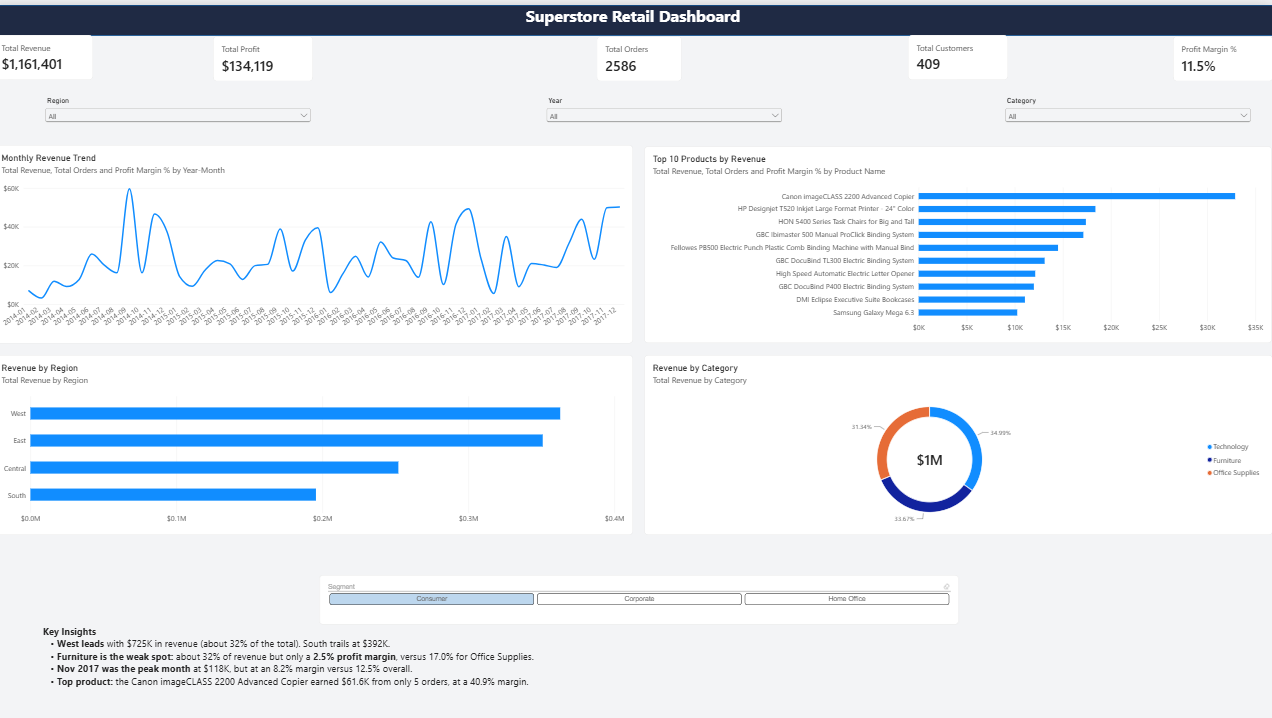

What the dashboard file says about the page in this screenshot:
{"tool":"powerbi","page":{"name":"Overview","canvas":[2560,1440],"ordinal":0},"visuals":[{"type":"shape","box":[0,0,2560,61.5],"z":0},{"type":"textbox","box":[0,0,2560,69.7],"z":1000},{"type":"cardVisual","fields":{"Data":["Measures (2).Total Profit"]},"box":[439.1,62.7,200,90],"z":2000},{"type":"cardVisual","fields":{"Data":["Measures (2).Total Revenue"]},"box":[0,60.3,200,90],"z":3000},{"type":"cardVisual","fields":{"Data":["Measures (2).Total Customers"]},"box":[1829,60.3,200,90],"z":4000},{"type":"cardVisual","fields":{"Data":["Measures (2).Total Orders"]},"box":[1206.4,62.7,170,90],"z":5000},{"type":"cardVisual","fields":{"Data":["Measures (2).Profit Margin %"]},"box":[2359,61.5,200,90],"z":6000},{"type":"lineChart","title":"Monthly Revenue Trend","fields":{"Category":["DateTable.Year-Month"],"Y":["Measures (2).Total Revenue"]},"box":[0,280,1280,396.7],"z":7000},{"type":"clusteredBarChart","title":"Top 10 Products by Revenue","fields":{"Category":["Sales.Product Name"],"Y":["Measures (2).Total Revenue"]},"box":[1303.3,283.3,1255.4,393.8],"z":8000},{"type":"clusteredBarChart","title":"Revenue by Region","fields":{"Category":["Sales.Region"],"Y":["Measures (2).Total Revenue"]},"box":[0,700,1280,360],"z":9000},{"type":"donutChart","title":"Revenue by Category","fields":{"Category":["Sales.Category"],"Y":["Measures (2).Total Revenue"]},"box":[1303.3,700,1256.7,360],"z":10000},{"type":"slicer","fields":{"Values":["Sales.Region"]},"box":[100,183.3,540,83.3],"z":11000},{"type":"slicer","fields":{"Values":["Sales.Category"]},"box":[2020,183.3,500,53.3],"z":12000},{"type":"slicer","fields":{"Values":["DateTable.Year"]},"box":[1103.3,183.3,480,106.7],"z":13000},{"type":"ChicletSlicer1448559807354","fields":{"Category":["Sales.Segment"]},"box":[652.6,1140,1279,99.6],"z":14000},{"type":"textbox","box":[100,1240,1275,200],"z":14002}]}

Visuals, with their boxes in screenshot pixels (x1, y1, x2, y2), scaled from the page's 2560x1440 canvas onto the 1272x718 screenshot:
shape: 0, 0, 1271, 31
textbox: 0, 0, 1271, 35
cardVisual - Measures (2).Total Profit: 218, 31, 318, 76
cardVisual - Measures (2).Total Revenue: 0, 30, 99, 75
cardVisual - Measures (2).Total Customers: 909, 30, 1008, 75
cardVisual - Measures (2).Total Orders: 599, 31, 684, 76
cardVisual - Measures (2).Profit Margin %: 1172, 31, 1271, 76
"Monthly Revenue Trend" lineChart: 0, 140, 636, 337
"Top 10 Products by Revenue" clusteredBarChart: 648, 141, 1271, 338
"Revenue by Region" clusteredBarChart: 0, 349, 636, 529
"Revenue by Category" donutChart: 648, 349, 1271, 529
slicer - Sales.Region: 50, 91, 318, 133
slicer - Sales.Category: 1004, 91, 1252, 118
slicer - DateTable.Year: 548, 91, 787, 145
ChicletSlicer1448559807354 - Sales.Segment: 324, 568, 960, 618
textbox: 50, 618, 683, 717
